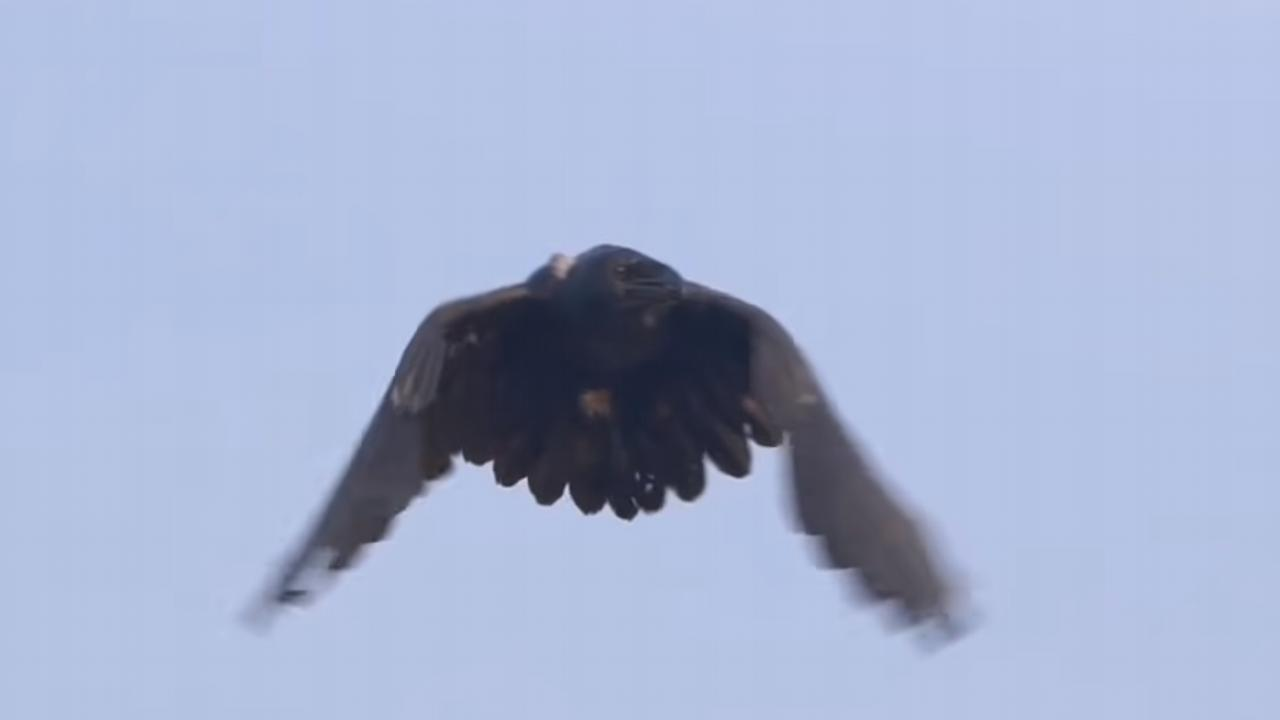Bird: (231, 234, 1000, 663)
